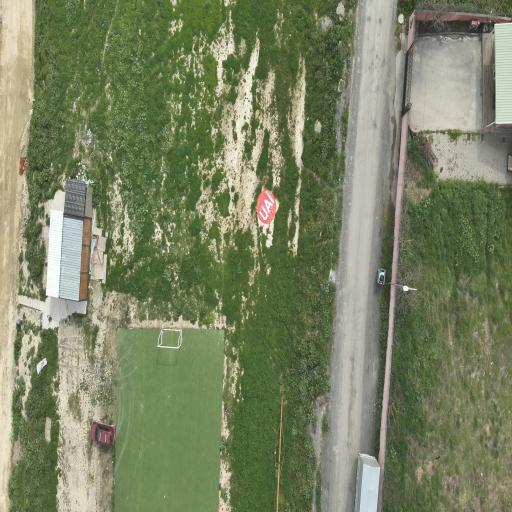car: (91, 422, 115, 446)
uai: (256, 189, 277, 224)
